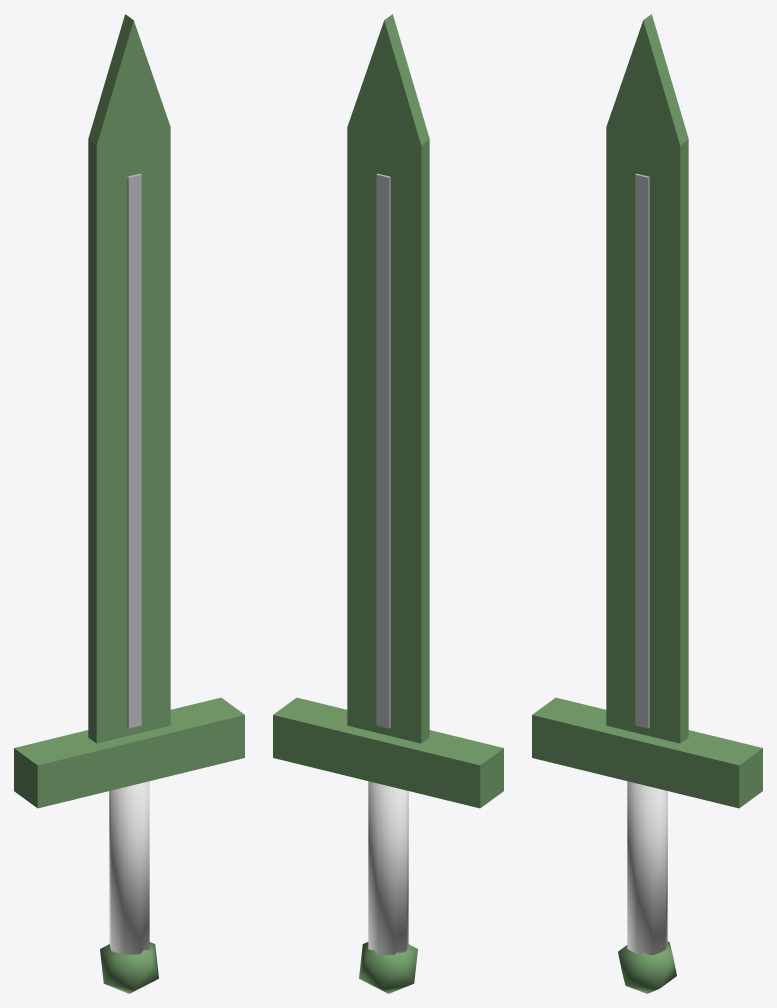
The model's file is tungsten_broadsword.glb.
3 views of the same model, side by side, from view 1: azimuth 30°, elevation 25°; view 2: azimuth 150°, elevation 25°; view 3: azimuth 330°, elevation 25° (orthographic).
Visible parts, largest first — view 1: tungsten_broadsword_v0; view 2: tungsten_broadsword_v0; view 3: tungsten_broadsword_v0.
Part boxes in pixels (box(x1,y1,x2,y2)): tungsten_broadsword_v0: box(14, 14, 244, 993); tungsten_broadsword_v0: box(273, 14, 503, 993); tungsten_broadsword_v0: box(532, 14, 762, 993).
Size of the model in its own units: 0.252 by 1.13 by 0.0595.
